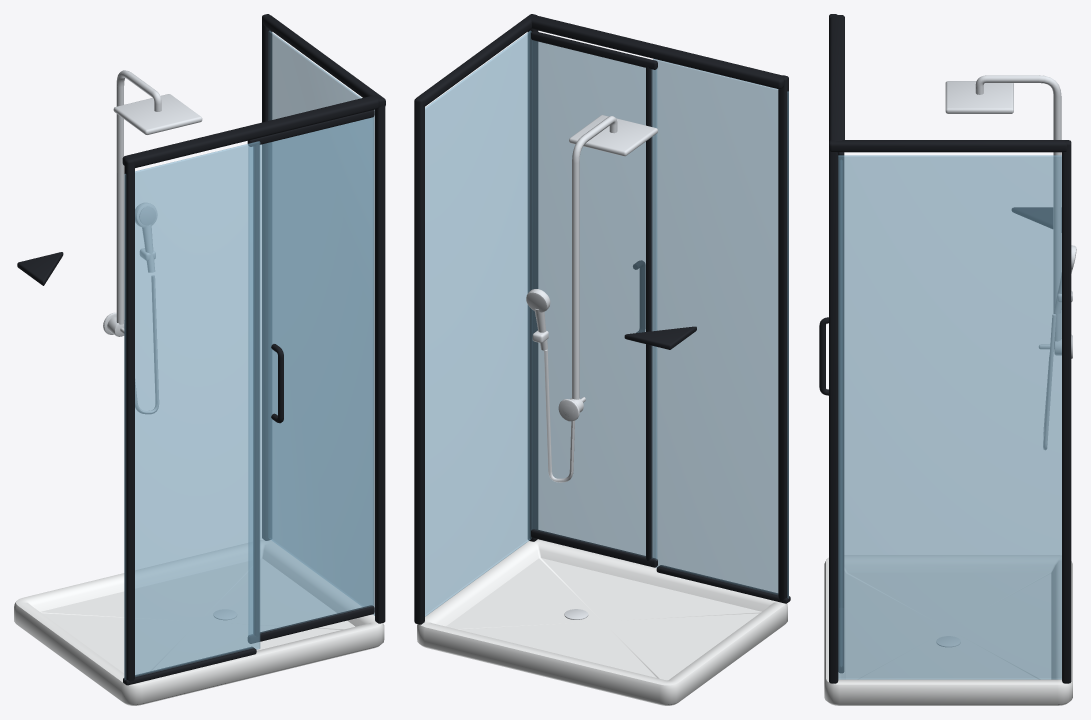
Rendered from box_chuveiro_retangular_preto.glb.
3 renders of one model, left to right at view 1: azimuth 30°, elevation 25°; view 2: azimuth 150°, elevation 25°; view 3: azimuth 270°, elevation 25°, orthographic. The views are drawn at different scales.
Parts seen in each view (by area): view 1: box_chuveiro_retangular_preto, porta_box; view 2: box_chuveiro_retangular_preto, porta_box; view 3: box_chuveiro_retangular_preto, porta_box.
Boxes of the visible parts, bbox=[...] form: box_chuveiro_retangular_preto: bbox=[14, 14, 385, 705]; porta_box: bbox=[247, 110, 374, 643]; box_chuveiro_retangular_preto: bbox=[414, 14, 790, 705]; porta_box: bbox=[531, 31, 657, 567]; box_chuveiro_retangular_preto: bbox=[824, 14, 1076, 705]; porta_box: bbox=[819, 152, 844, 672].
Bounding box in the file's own units: 1 × 2 × 0.8267.
2 materials, 1 textured.
